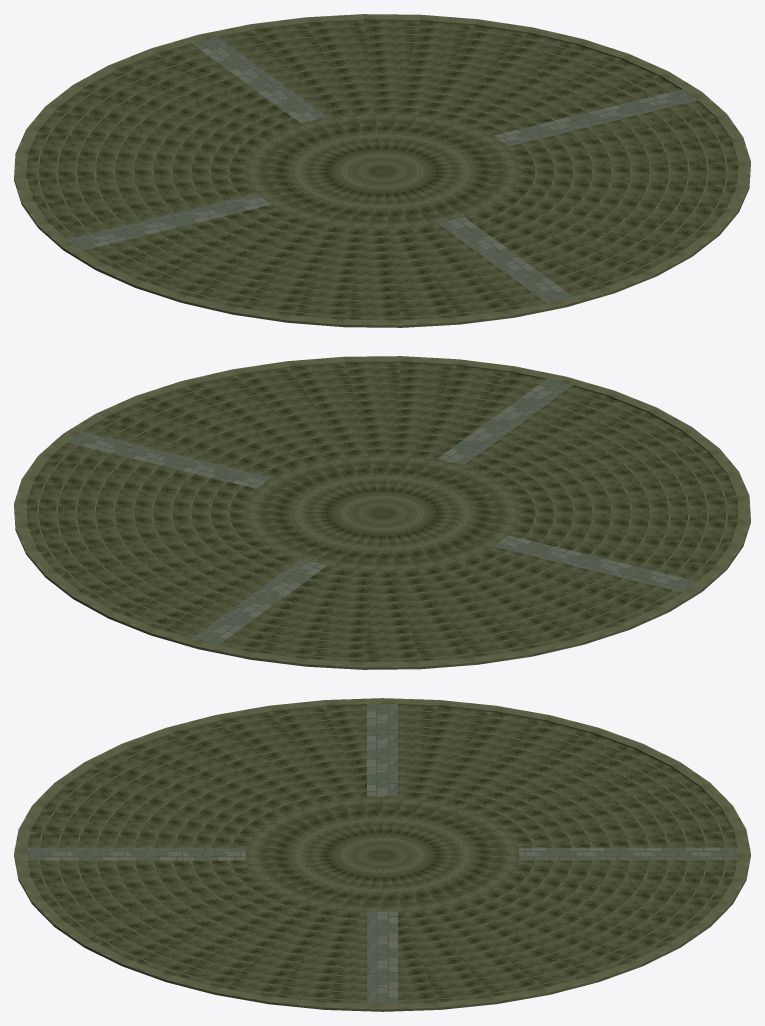
File: city_small_base.glb
3 views of the same model, one above another, from view 1: azimuth 30°, elevation 25°; view 2: azimuth 150°, elevation 25°; view 3: azimuth 270°, elevation 25° (orthographic).
Parts seen in each view (by area): view 1: ae_jungle_city_small_base; view 2: ae_jungle_city_small_base; view 3: ae_jungle_city_small_base.
Boxes of the visible parts, x1=… form: ae_jungle_city_small_base: x1=14, y1=14, x2=750, y2=327; ae_jungle_city_small_base: x1=14, y1=356, x2=750, y2=669; ae_jungle_city_small_base: x1=14, y1=698, x2=750, y2=1011.
Bounding box in the file's own units: 1.77 × 0.00606 × 1.77.
Materials: 1 (1 with a texture image).
